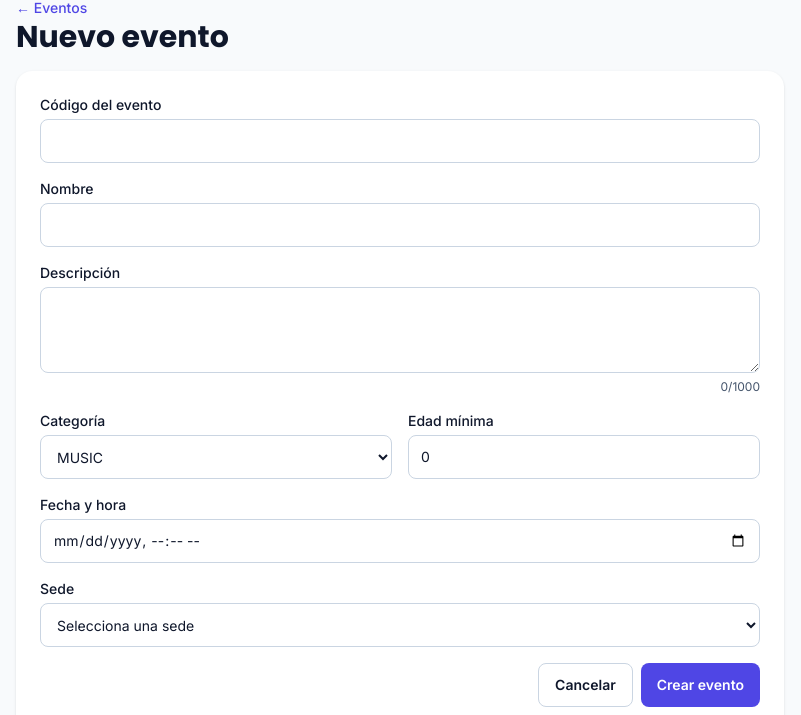
crear evento › campos vacíos → errores por campo y 0 peticiones
Click the button "Crear evento" at [700, 685], box [641, 663, 760, 707]
(page scrolled)
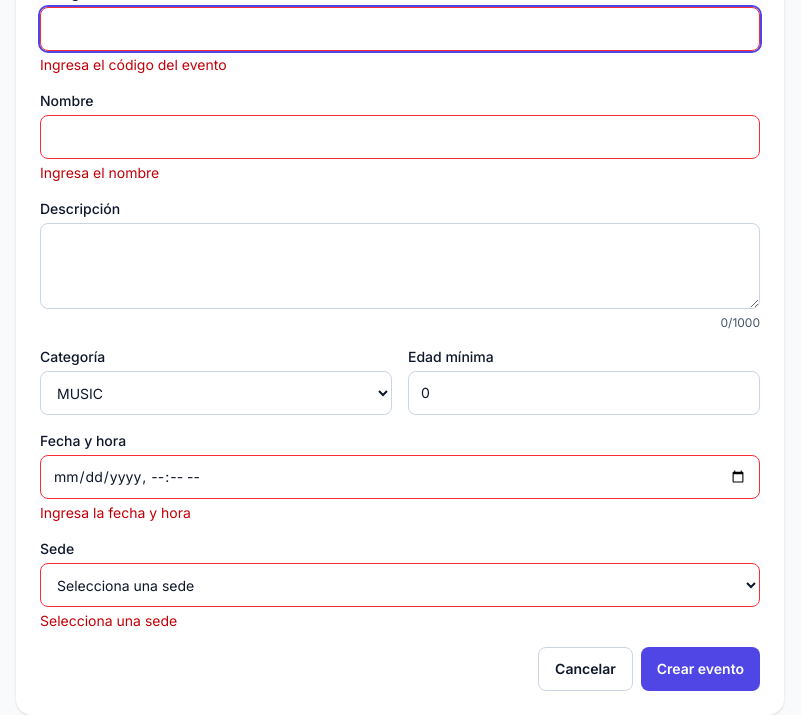
Expected: the text "Ingresa el código del evento" is shown, [40, 56, 227, 73]
Expected: the text "Ingresa el nombre" is shown, [40, 164, 159, 181]
Expected: the text "Selecciona una sede" is shown, [40, 612, 177, 629]
